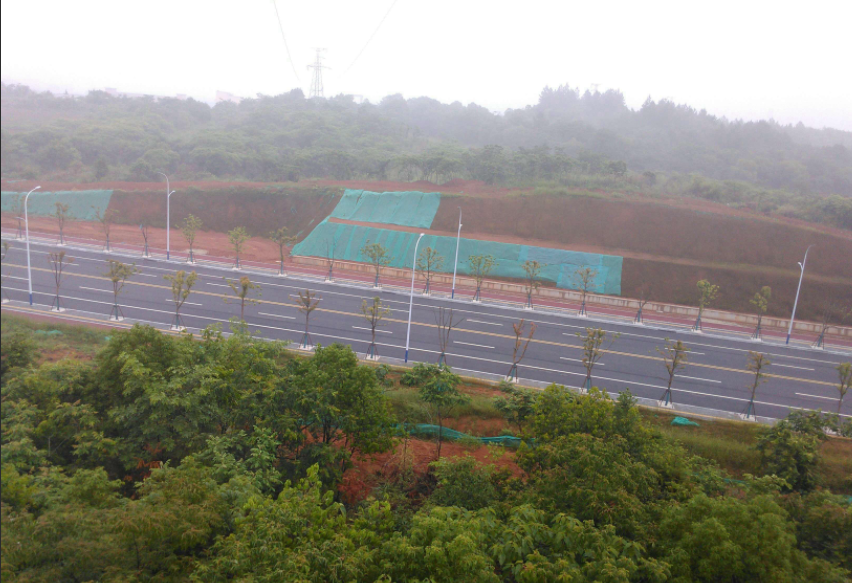绿膜: (285, 218, 624, 296), (294, 413, 540, 451), (322, 186, 440, 230), (0, 189, 113, 222), (690, 470, 752, 485), (669, 415, 700, 427), (33, 328, 64, 335), (6, 178, 26, 183), (843, 494, 852, 503), (104, 335, 111, 340)
